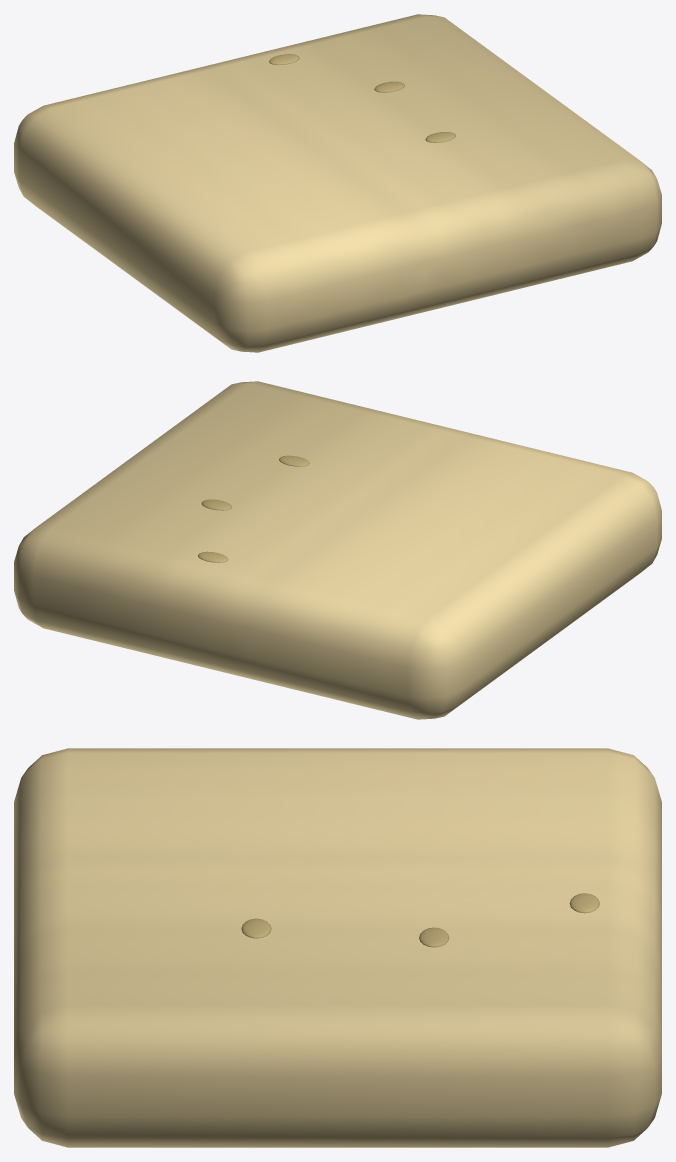
The model's file is Tile_1.fbx.
The picture shows the model from 3 angles, top to bottom: view 1: azimuth 30°, elevation 25°; view 2: azimuth 150°, elevation 25°; view 3: azimuth 270°, elevation 25°; orthographic projection. The views are drawn at different scales.
Visible parts, largest first — view 1: Tile_1; view 2: Tile_1; view 3: Tile_1.
Boxes of the visible parts, left/top/right/bottom form: Tile_1: left=14, top=14, right=661, bottom=352; Tile_1: left=14, top=381, right=661, bottom=719; Tile_1: left=14, top=748, right=661, bottom=1147.
Size of the model in its own units: 98 by 21.5 by 90.
Materials: 1 (1 with a texture image).
